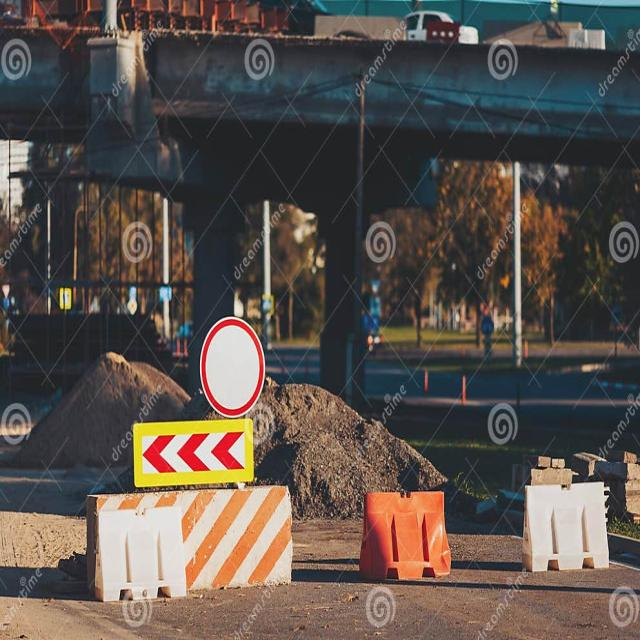cone: (85, 484, 293, 602), (353, 458, 463, 592), (512, 472, 617, 586)
